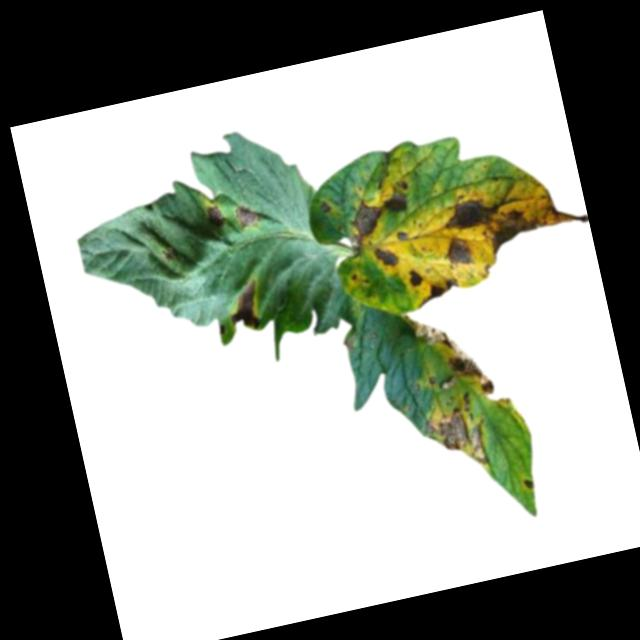Early_blight: (439, 173, 592, 267), (399, 300, 498, 411), (421, 390, 492, 474), (342, 179, 417, 246), (220, 275, 268, 336), (410, 276, 465, 311), (439, 234, 477, 272), (373, 240, 403, 272), (233, 201, 260, 228), (204, 199, 228, 228), (406, 265, 425, 288), (522, 472, 536, 491), (316, 198, 332, 214)
